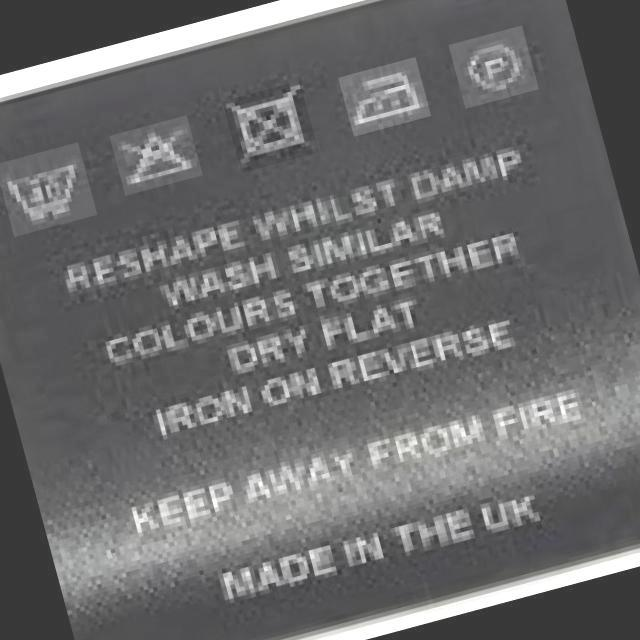30C: (5, 149, 98, 225)
DN_bleach: (118, 127, 200, 186)
DN_tumble_dry: (229, 88, 318, 166)
dry_clean_any_solvent_except_trichloroethylene: (460, 37, 532, 99)
iron_medium: (348, 71, 429, 125)
